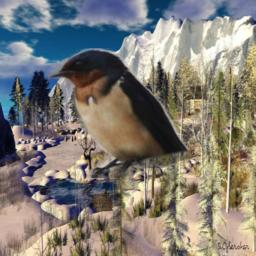Swallow: (48, 48, 190, 178)
